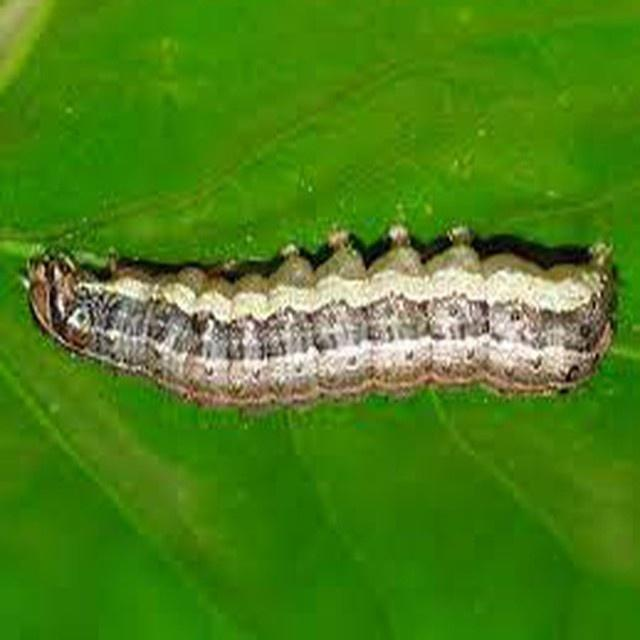gusano_cogollero: (32, 234, 615, 402)
